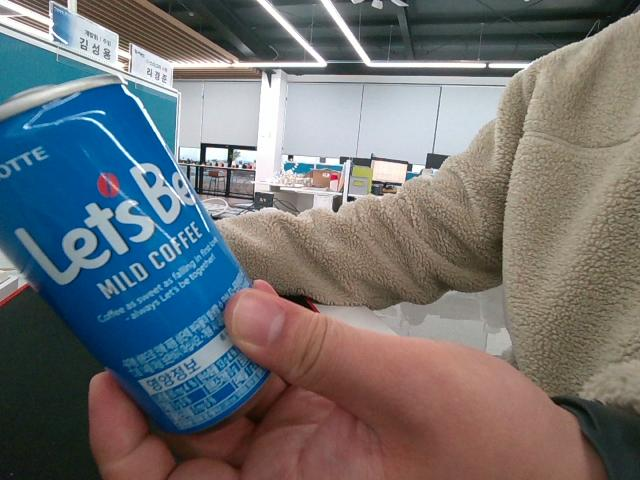letsbe: (0, 72, 283, 438)
